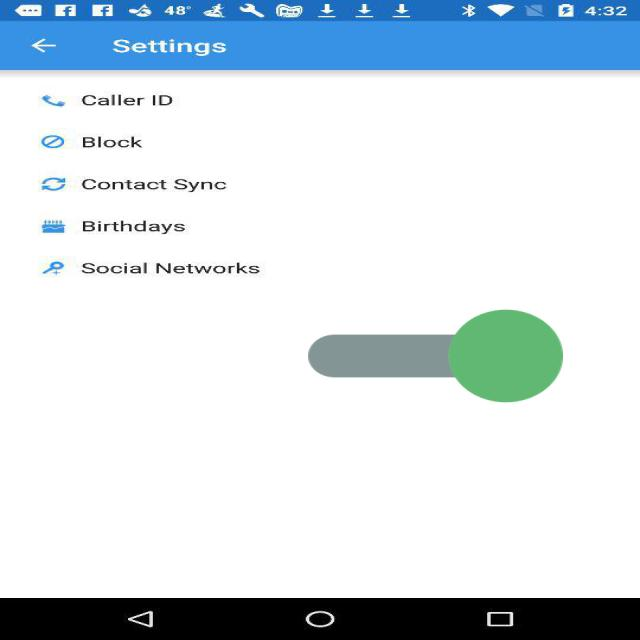social proof: (308, 253, 563, 459)
